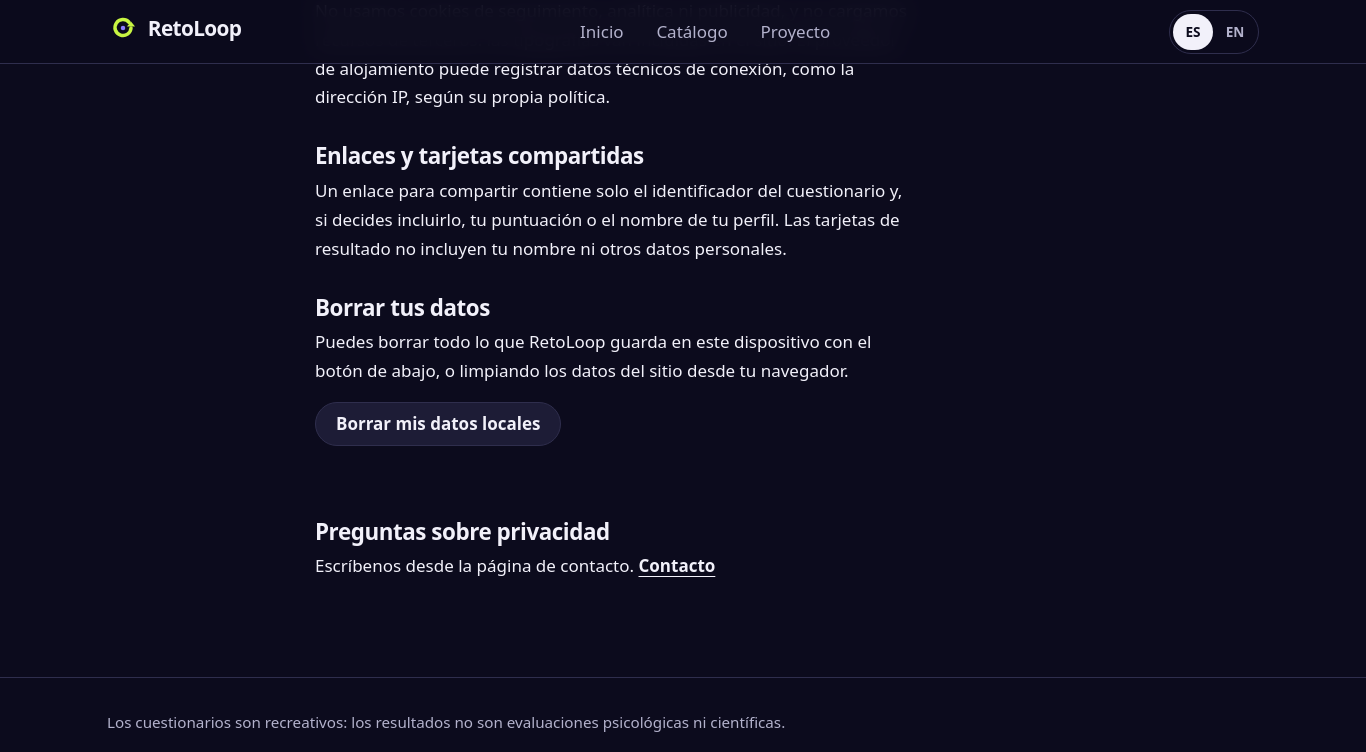
Test: páginas informativas › privacidad: explica qué se guarda y permite borrarlo
This screenshot has width=1366, height=752.
(page scrolled)
Click the button "Borrar mis datos locales" at (438, 424), box x1=315 y1=402 x2=561 y2=446
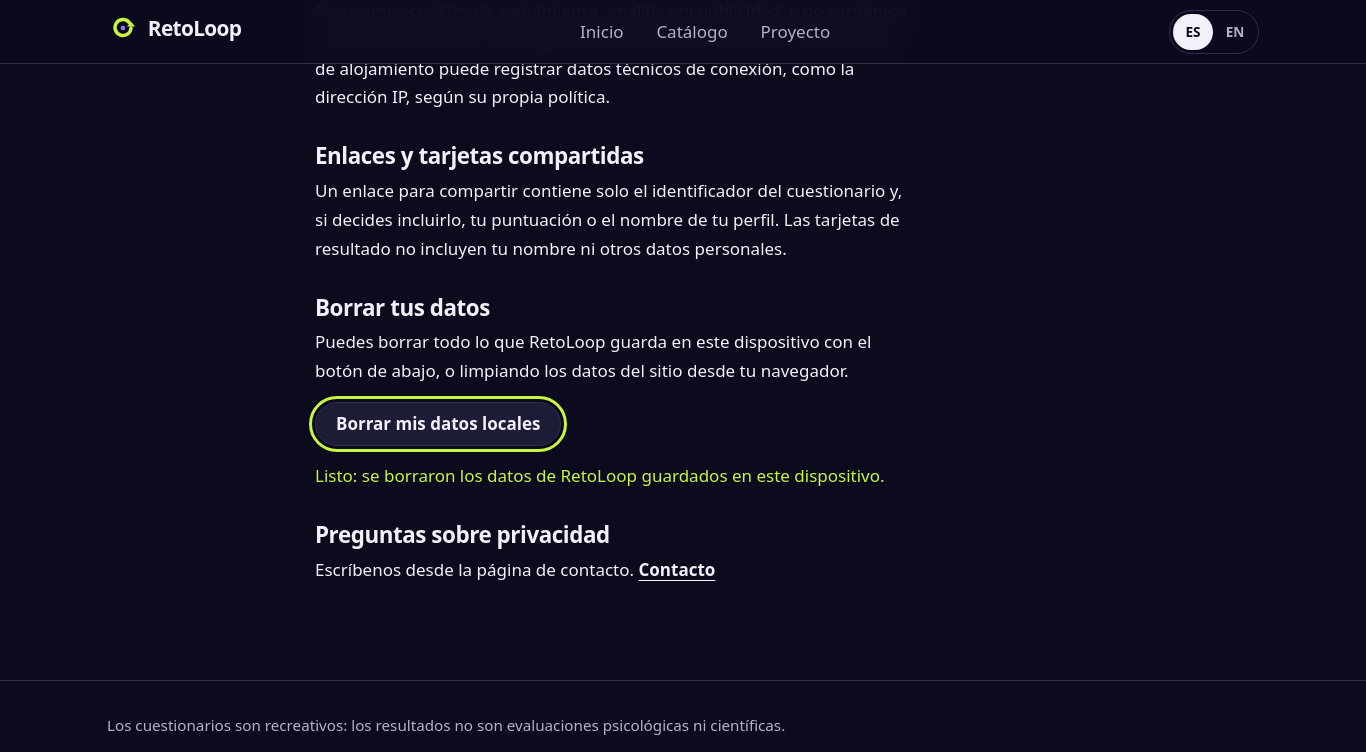
Check: the text "Listo: se borraron los datos de RetoLoop guardados en este dispositivo." is shown, box x1=315 y1=462 x2=918 y2=491
